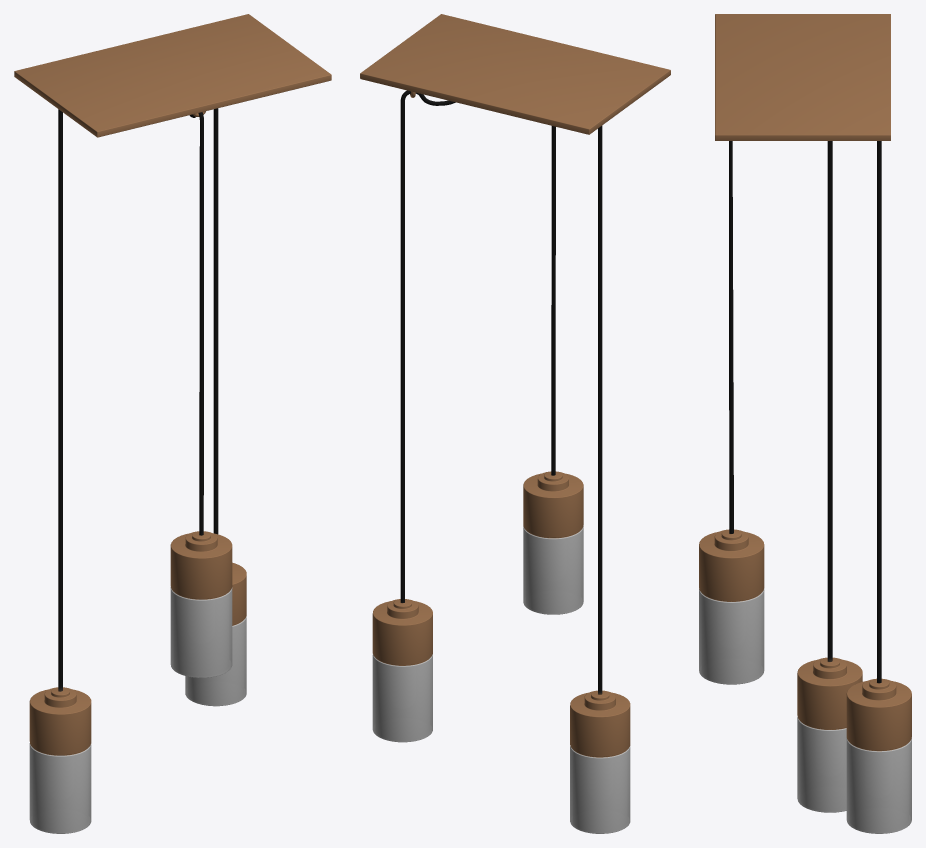
Rendered from lamp_4.glb.
The picture shows the model from 3 angles, left to right: view 1: azimuth 30°, elevation 25°; view 2: azimuth 150°, elevation 25°; view 3: azimuth 270°, elevation 25°; orthographic projection. The views are drawn at different scales.
Parts seen in each view (by area): view 1: modern_chandelier; view 2: modern_chandelier; view 3: modern_chandelier.
Boxes of the visible parts, <box> form: modern_chandelier: <box>14,14,331,833</box>; modern_chandelier: <box>360,14,670,833</box>; modern_chandelier: <box>699,14,911,833</box>.
Size of the model in its own units: 0.6955 by 2 by 0.4973.
1 material, 1 textured.
